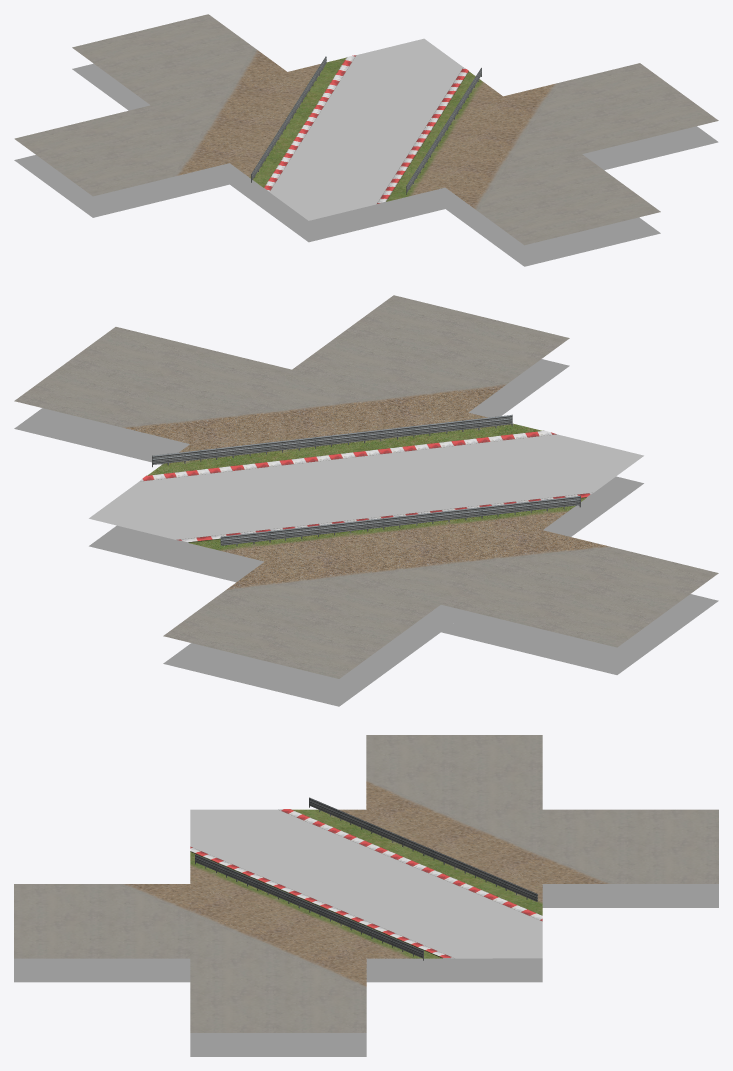
Rendered from Track_Straight_45Degree_Gravel.fbx.
The picture shows the model from 3 angles, top to bottom: view 1: azimuth 30°, elevation 25°; view 2: azimuth 150°, elevation 25°; view 3: azimuth 270°, elevation 25°; orthographic projection. The views are drawn at different scales.
Parts seen in each view (by area): view 1: Concrete_B, Concrete_A, Road, Snap_Plane_Invisible, Gravel_B, Gravel_A, Grass, Curb_A, Curb_B, Rail_B, Rail_A; view 2: Concrete_A, Concrete_B, Road, Snap_Plane_Invisible, Gravel_A, Gravel_B, Grass, Rail_A, Rail_B, Curb_B, Curb_A; view 3: Concrete_A, Concrete_B, Road, Snap_Plane_Invisible, Gravel_B, Gravel_A, Grass, Rail_B, Rail_A, Curb_A, Curb_B.
Part boxes in pixels (<box>): Concrete_B: <box>479,63,718,245</box>; Concrete_A: <box>14,14,253,196</box>; Road: <box>270,38,463,220</box>; Snap_Plane_Invisible: <box>14,63,718,266</box>; Gravel_B: <box>405,79,560,211</box>; Gravel_A: <box>172,48,327,180</box>; Grass: <box>253,57,476,201</box>; Curb_A: <box>264,55,356,191</box>; Curb_B: <box>377,67,468,203</box>; Rail_B: <box>406,67,481,194</box>; Rail_A: <box>251,56,326,182</box>; Concrete_A: <box>163,548,718,678</box>; Concrete_B: <box>14,295,569,425</box>; Road: <box>89,434,643,539</box>; Snap_Plane_Invisible: <box>14,359,718,706</box>; Gravel_A: <box>213,508,616,592</box>; Gravel_B: <box>116,381,519,466</box>; Grass: <box>147,425,585,548</box>; Rail_A: <box>220,495,580,546</box>; Rail_B: <box>152,414,512,467</box>; Curb_B: <box>139,430,556,481</box>; Curb_A: <box>176,492,593,542</box>; Concrete_A: <box>366,735,718,883</box>; Concrete_B: <box>14,884,366,1032</box>; Road: <box>190,809,542,958</box>; Snap_Plane_Invisible: <box>14,884,718,1056</box>; Gravel_B: <box>116,862,419,989</box>; Gravel_A: <box>314,778,615,905</box>; Grass: <box>190,809,542,958</box>; Rail_B: <box>195,854,423,960</box>; Rail_A: <box>309,797,537,901</box>; Curb_A: <box>278,809,542,921</box>; Curb_B: <box>190,846,454,958</box>.
Bounding box in the file's own units: 80 × 4.24 × 80.
